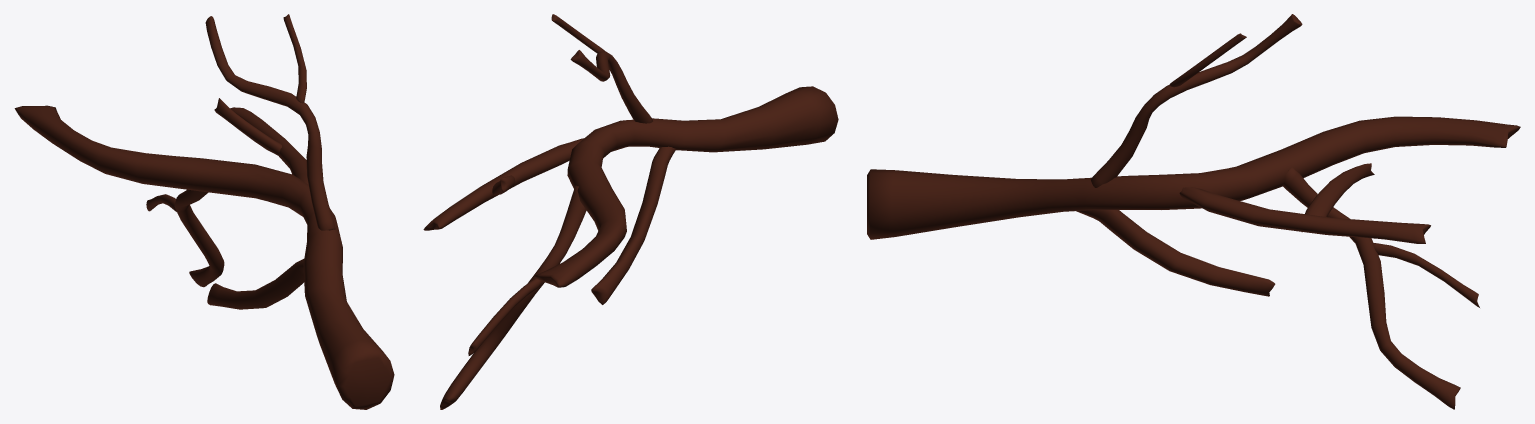
The model's file is TreeDesert1.fbx.
3 views of the same model, side by side, from view 1: azimuth 30°, elevation 25°; view 2: azimuth 150°, elevation 25°; view 3: azimuth 270°, elevation 25° (orthographic). The views are drawn at different scales.
Visible parts, largest first — view 1: Icosphere.001; view 2: Icosphere.001; view 3: Icosphere.001.
Part boxes in pixels (x1=…): Icosphere.001: x1=14, y1=14, x2=394, y2=409; Icosphere.001: x1=423, y1=14, x2=838, y2=409; Icosphere.001: x1=867, y1=14, x2=1520, y2=409.
Bounding box in the file's own units: 1297 × 2253 × 3634.
